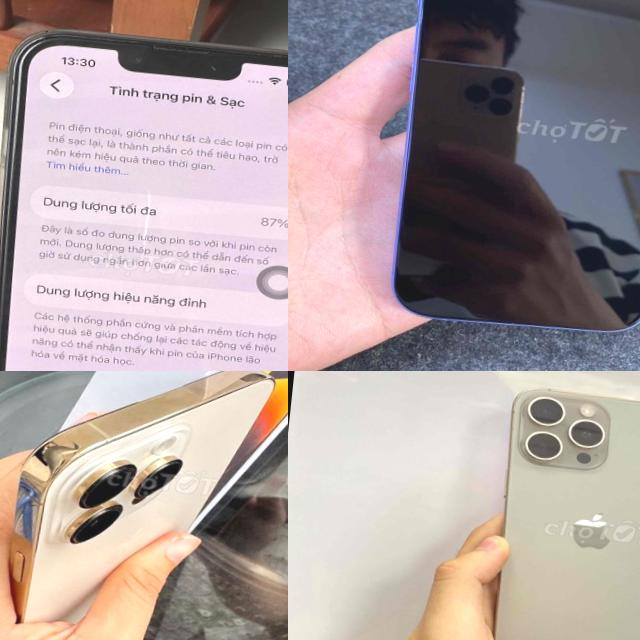gen_12_13: (0, 22, 288, 371)
gen_14: (9, 371, 273, 621)
gen_16: (388, 0, 640, 331), (494, 388, 640, 640)
